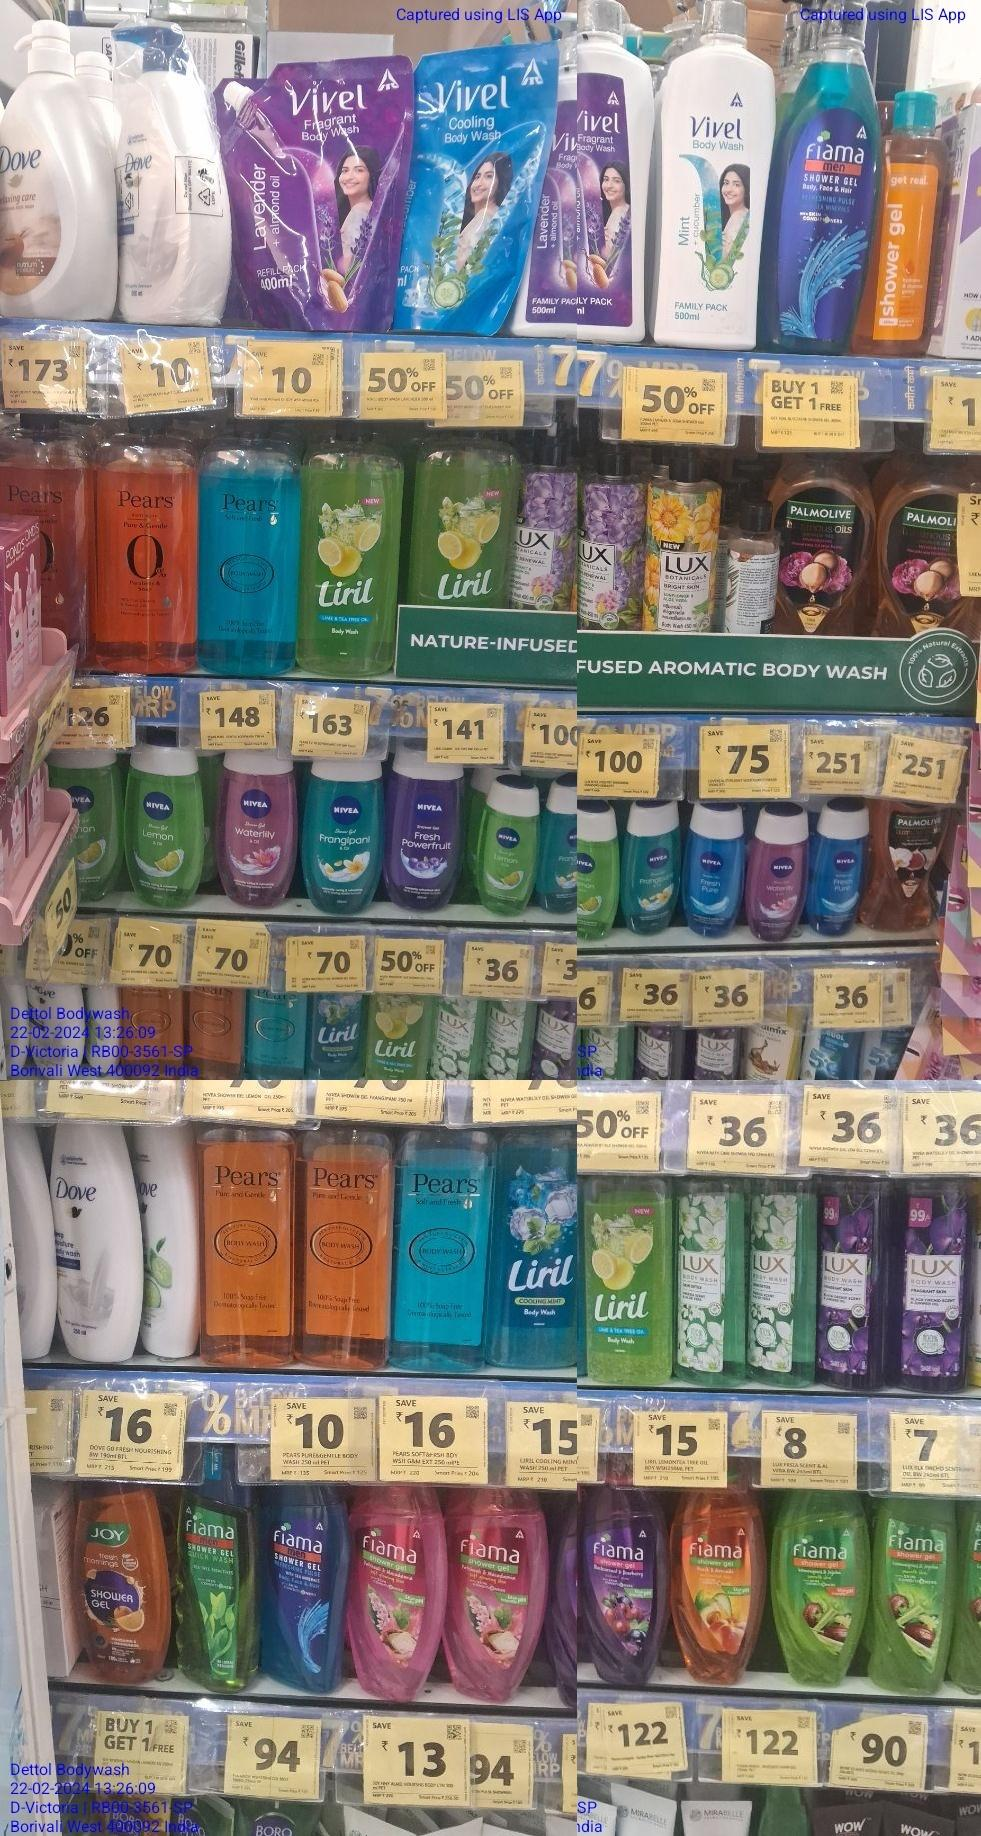Dove_Deep_Moisture_Body_Wash_250ML: (53, 1112, 141, 1366)
Fiama_Shower_Gel_Lemongrass_and_Jojoba_250ML: (773, 1489, 869, 1687), (877, 1490, 956, 1696)
Fiama_Shower_Gel_Patchouli_and_Macadamia_250ML: (352, 1472, 446, 1695), (450, 1481, 541, 1707)
Fiama_Shower_Gel_Peach_and_Avocado_250ML: (671, 1477, 765, 1691)
Joy_Shower_Gel_Mandarin_and_Lemongrass_250ML: (74, 1480, 170, 1684)
Liril_Cooling_Mint_Body_Wash_250ML: (499, 1116, 569, 1373), (312, 991, 362, 1081)
Liril_Lime_and_Tea_Tree_Oil_Body_Wash_250ML: (369, 994, 430, 1082)
Lux_Black_Orchid_Scent_and_Juniper_Oil_Body_Wash_245ML: (892, 1172, 965, 1387), (822, 1172, 886, 1388), (534, 1001, 572, 1082), (696, 1019, 741, 1082), (640, 1020, 674, 1082)
Lux_Body_Wash_Skin_Detox_Freesia_Scent_and_Alove_Vera_245ML: (675, 1177, 742, 1390), (750, 1172, 812, 1385), (436, 994, 480, 1084), (487, 994, 523, 1078), (582, 1020, 630, 1081)
Nivea_Shower_Gel_Frangipani_and_Oil_250ML: (306, 753, 389, 917)
Nivea_Shower_Gel_Fresh_Powerfruit_250ML: (393, 746, 455, 916)
Nivea_Shower_Gel_Lemon_and_Oil_250ML: (125, 741, 204, 913)
Nivea_Shower_Gel_Waterlily_and_Oil_250ML: (225, 752, 295, 905)
Pears_Pure_Glycerin_and_Mint_Extracts_Body_Wash_250ML: (397, 1118, 478, 1382), (250, 988, 305, 1077)
